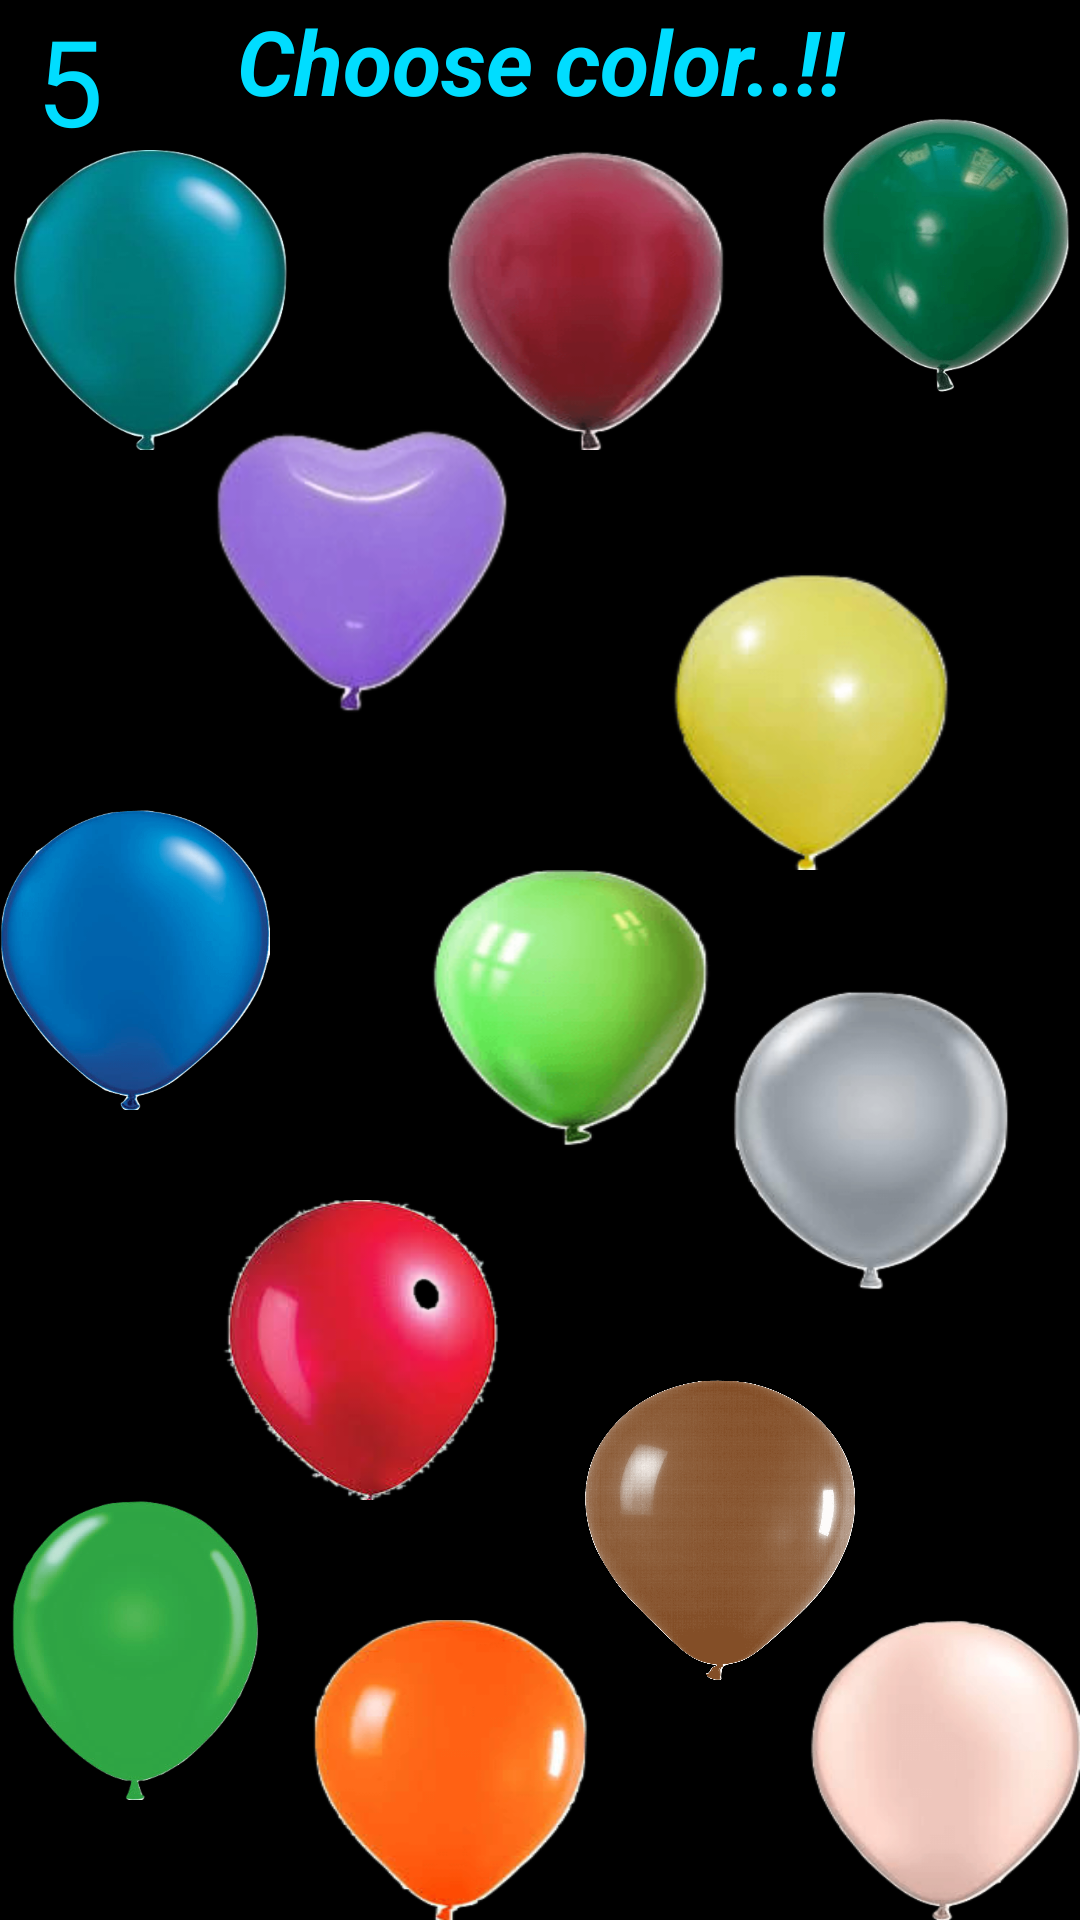

Icon bounding boxes for this 1080px×1920px phone screenshot, format (left=x1, top=y1, right=x2, bottom=y2):
brown bln: (left=585, top=1380, right=855, bottom=1680)
lime bln: (left=433, top=870, right=708, bottom=1145)
maroon bln: (left=448, top=152, right=723, bottom=450)
peach bln: (left=811, top=1621, right=1080, bottom=1920)
violet bln: (left=217, top=431, right=507, bottom=711)
